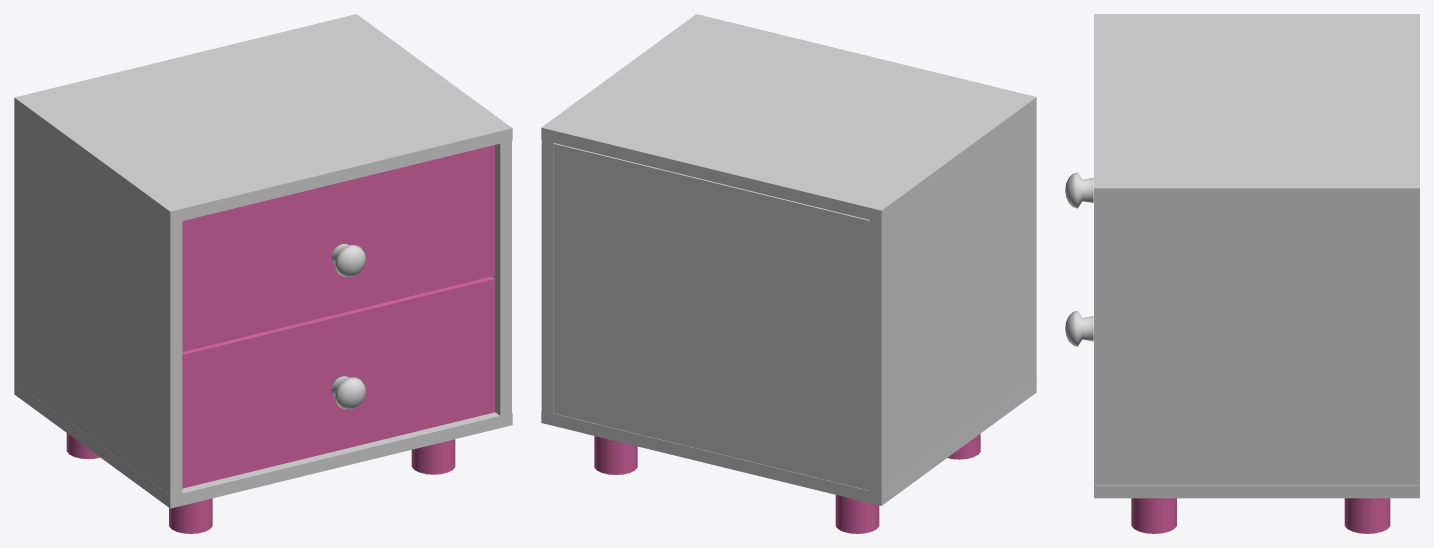
Rendered from Bedside table.FBX.
The picture shows the model from 3 angles, left to right: view 1: azimuth 30°, elevation 25°; view 2: azimuth 150°, elevation 25°; view 3: azimuth 270°, elevation 25°; orthographic projection. The views are drawn at different scales.
Parts seen in each view (by area): view 1: Bedside table; view 2: Bedside table; view 3: Bedside table.
Boxes of the visible parts, x1,y1,x2,y2 form: Bedside table: [14, 14, 512, 533]; Bedside table: [541, 14, 1036, 533]; Bedside table: [1065, 14, 1419, 533].
Bounding box in the file's own units: 552 × 474 × 533.
